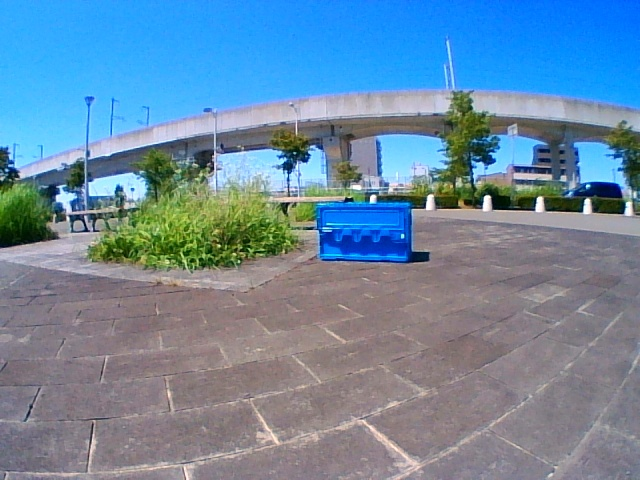blue_box: (320, 204, 409, 261)
